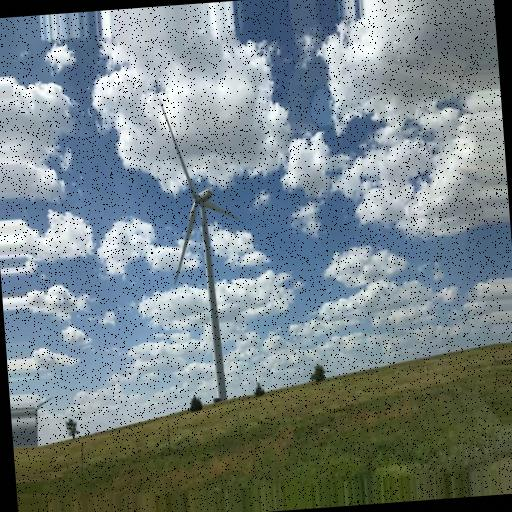wind turbine: (154, 87, 245, 403)
